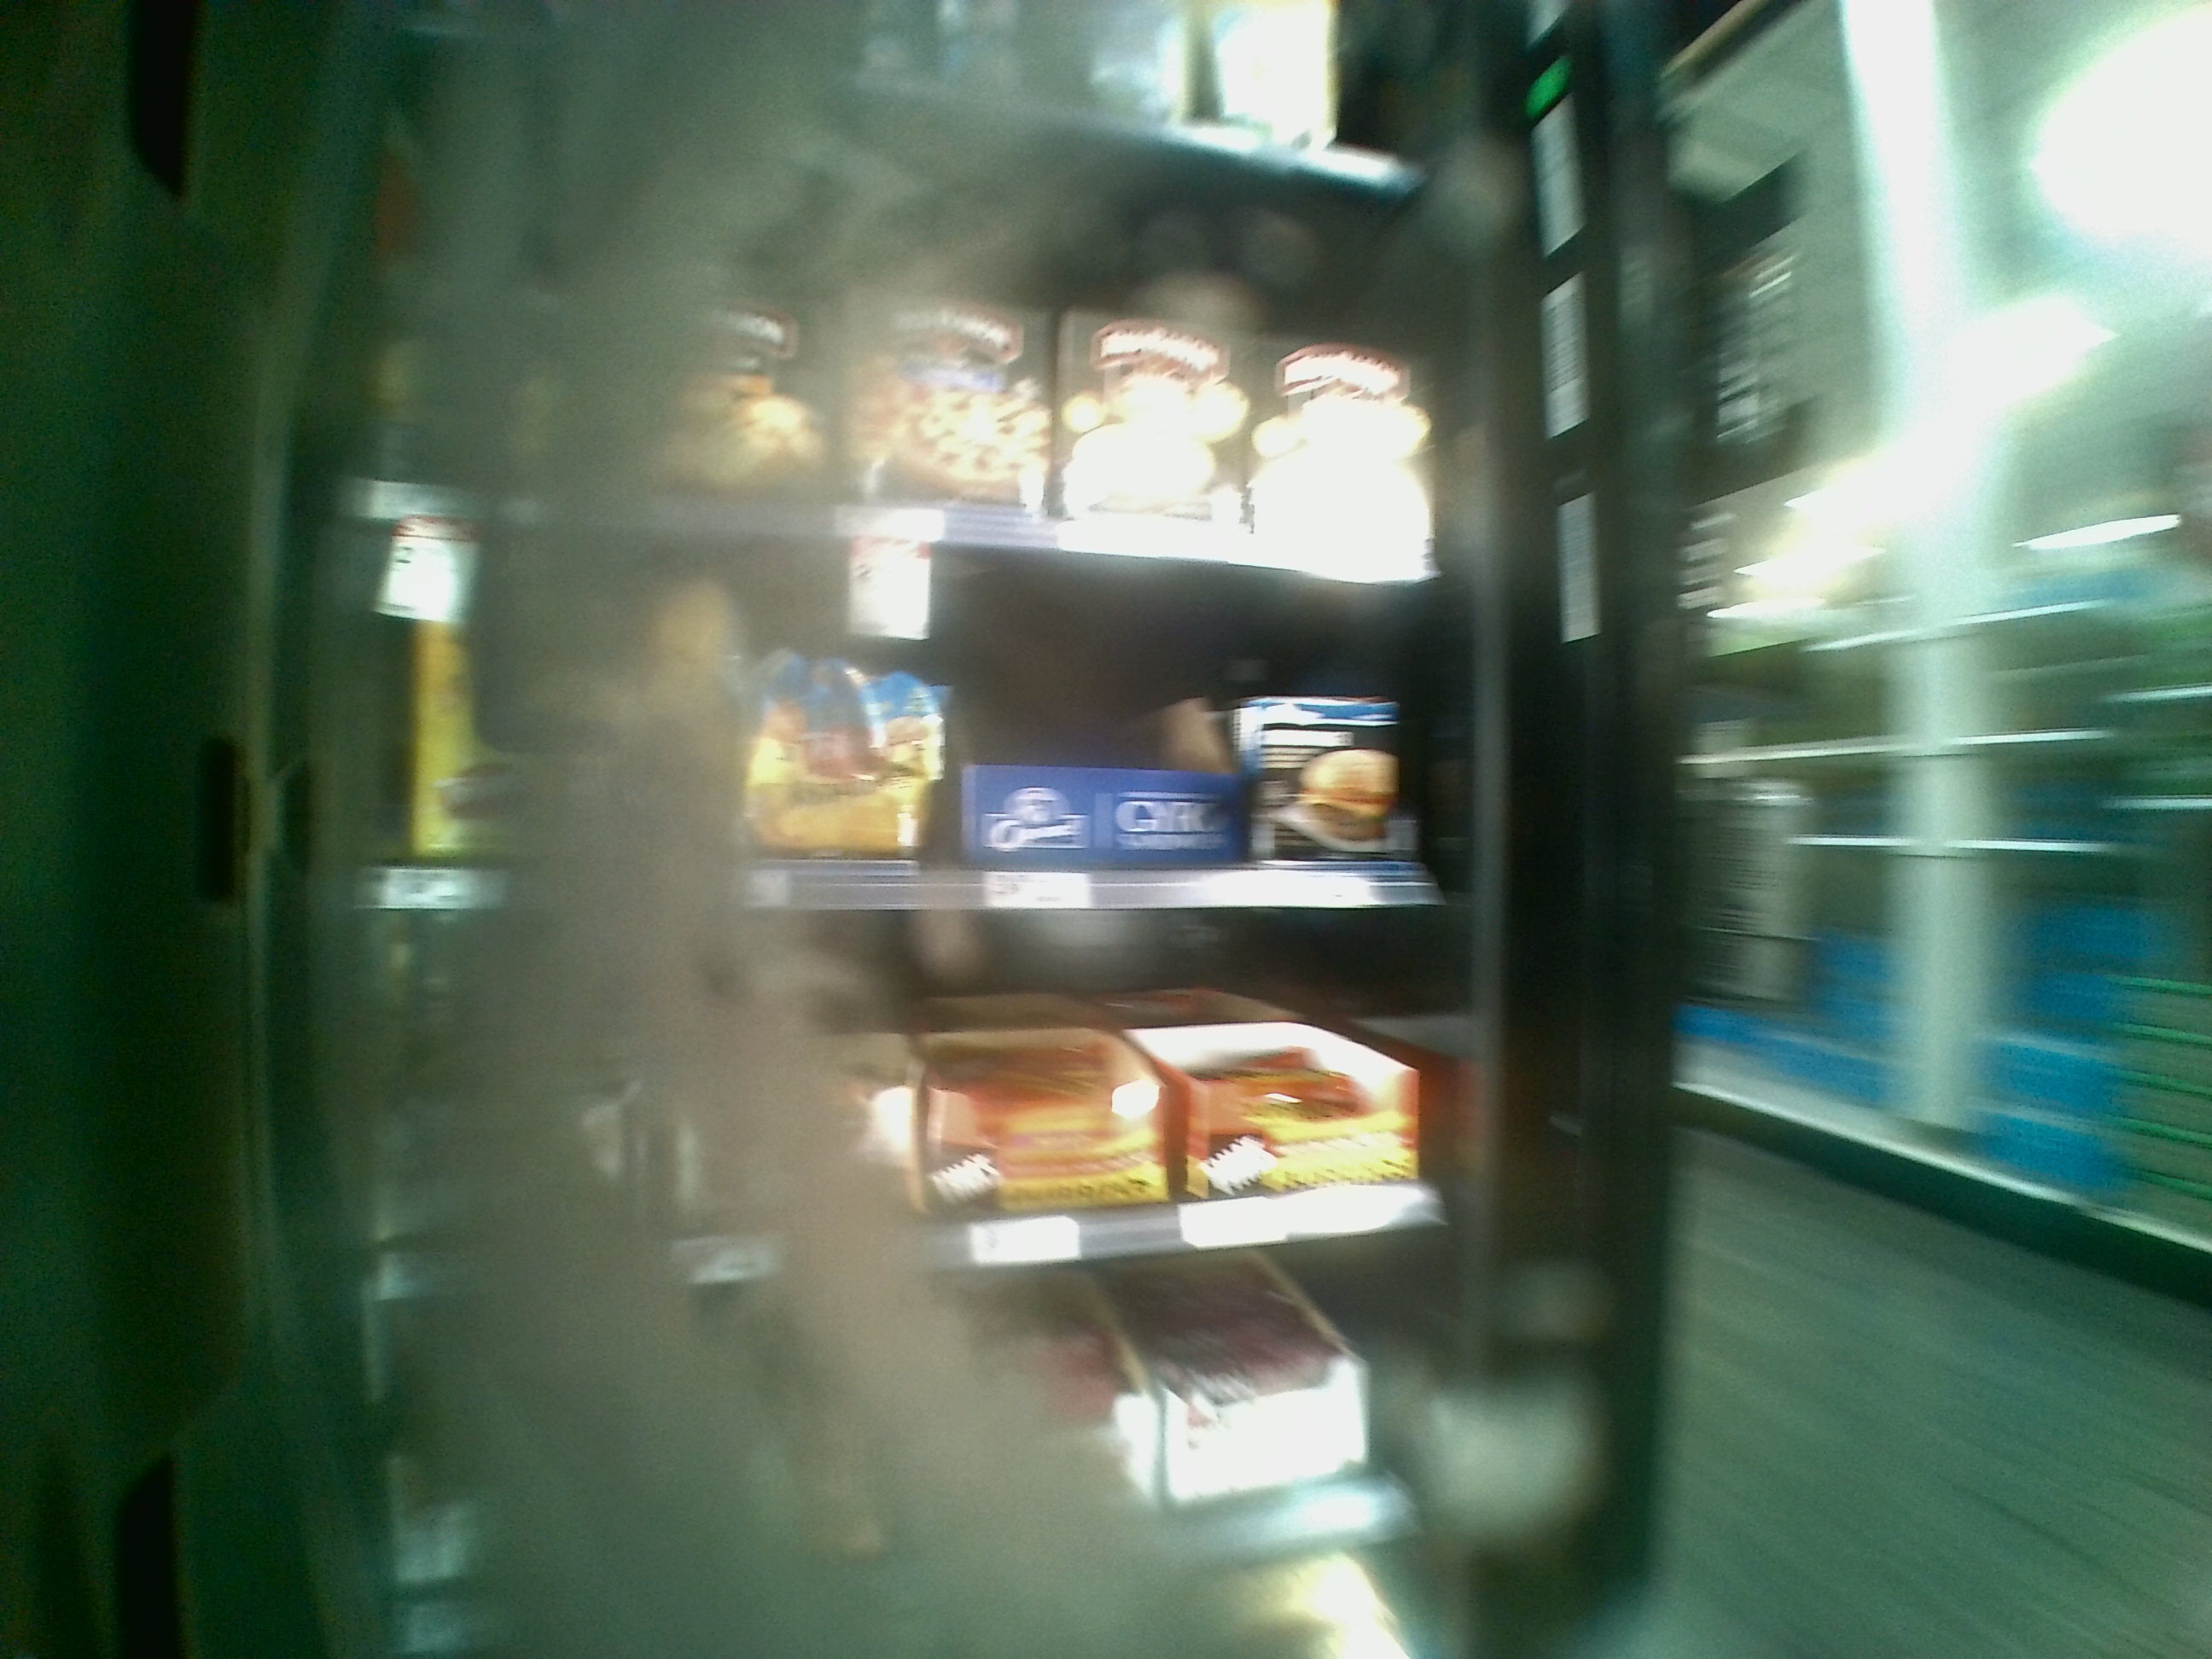shelf: (374, 915, 1437, 1283), (390, 174, 1435, 545), (381, 1288, 1425, 1643), (366, 570, 1437, 913)
